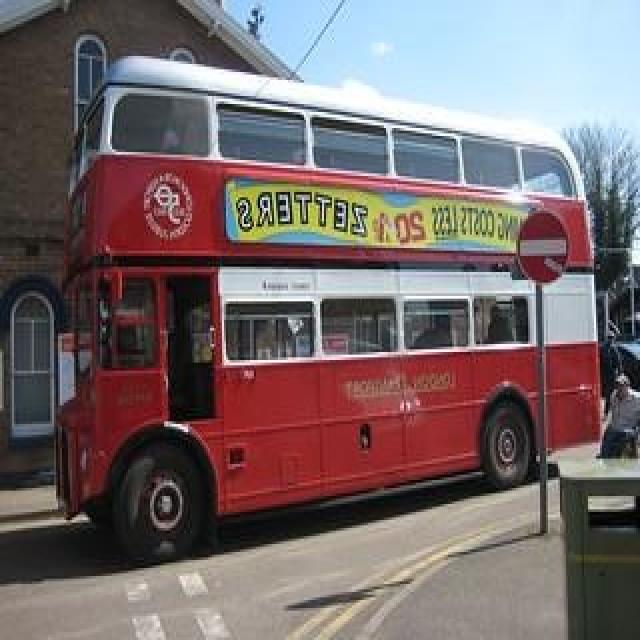Bus: (80, 90, 588, 477)
